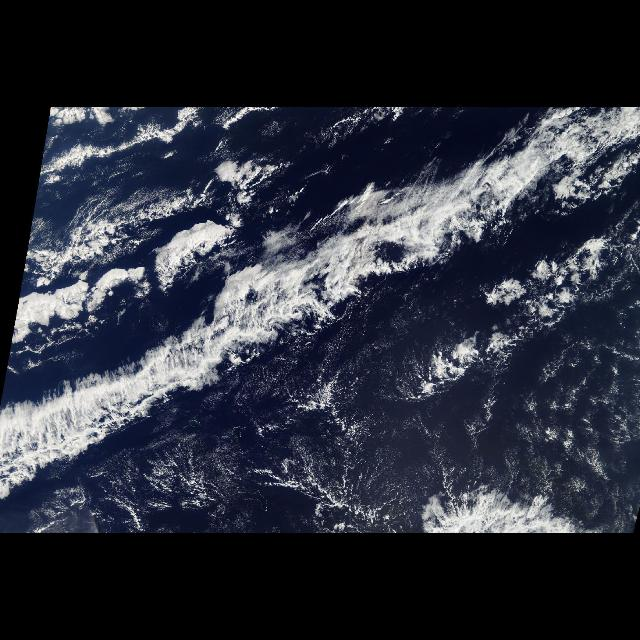Fish: (1, 143, 544, 503)
Gravel: (496, 302, 636, 488)
Sugar: (101, 228, 639, 532)
